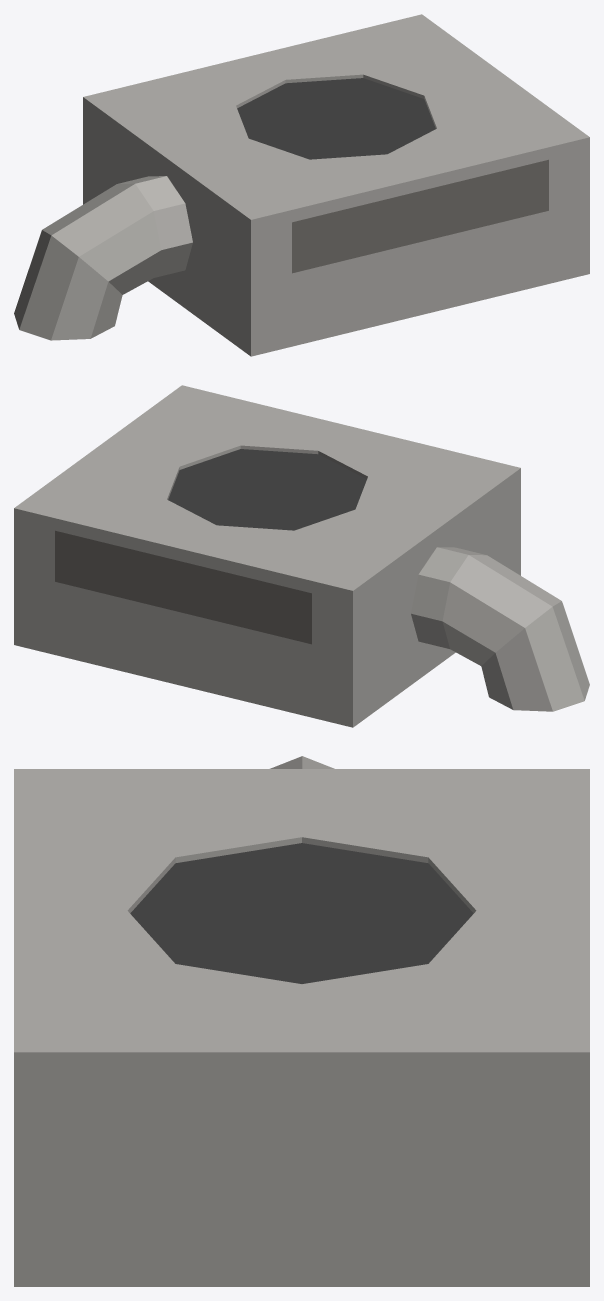
File: HousePart_01.fbx
3 renders of one model, top to bottom at view 1: azimuth 30°, elevation 25°; view 2: azimuth 150°, elevation 25°; view 3: azimuth 270°, elevation 25°, orthographic. The views are drawn at different scales.
Visible parts, largest first — view 1: HousePart_01; view 2: HousePart_01; view 3: HousePart_01.
Boxes of the visible parts, box(x1,y1,x2,y2) form: HousePart_01: box(14, 14, 589, 356); HousePart_01: box(14, 385, 589, 727); HousePart_01: box(14, 756, 589, 1286).
Size of the model in its own units: 3.35 by 0.9022 by 2.
